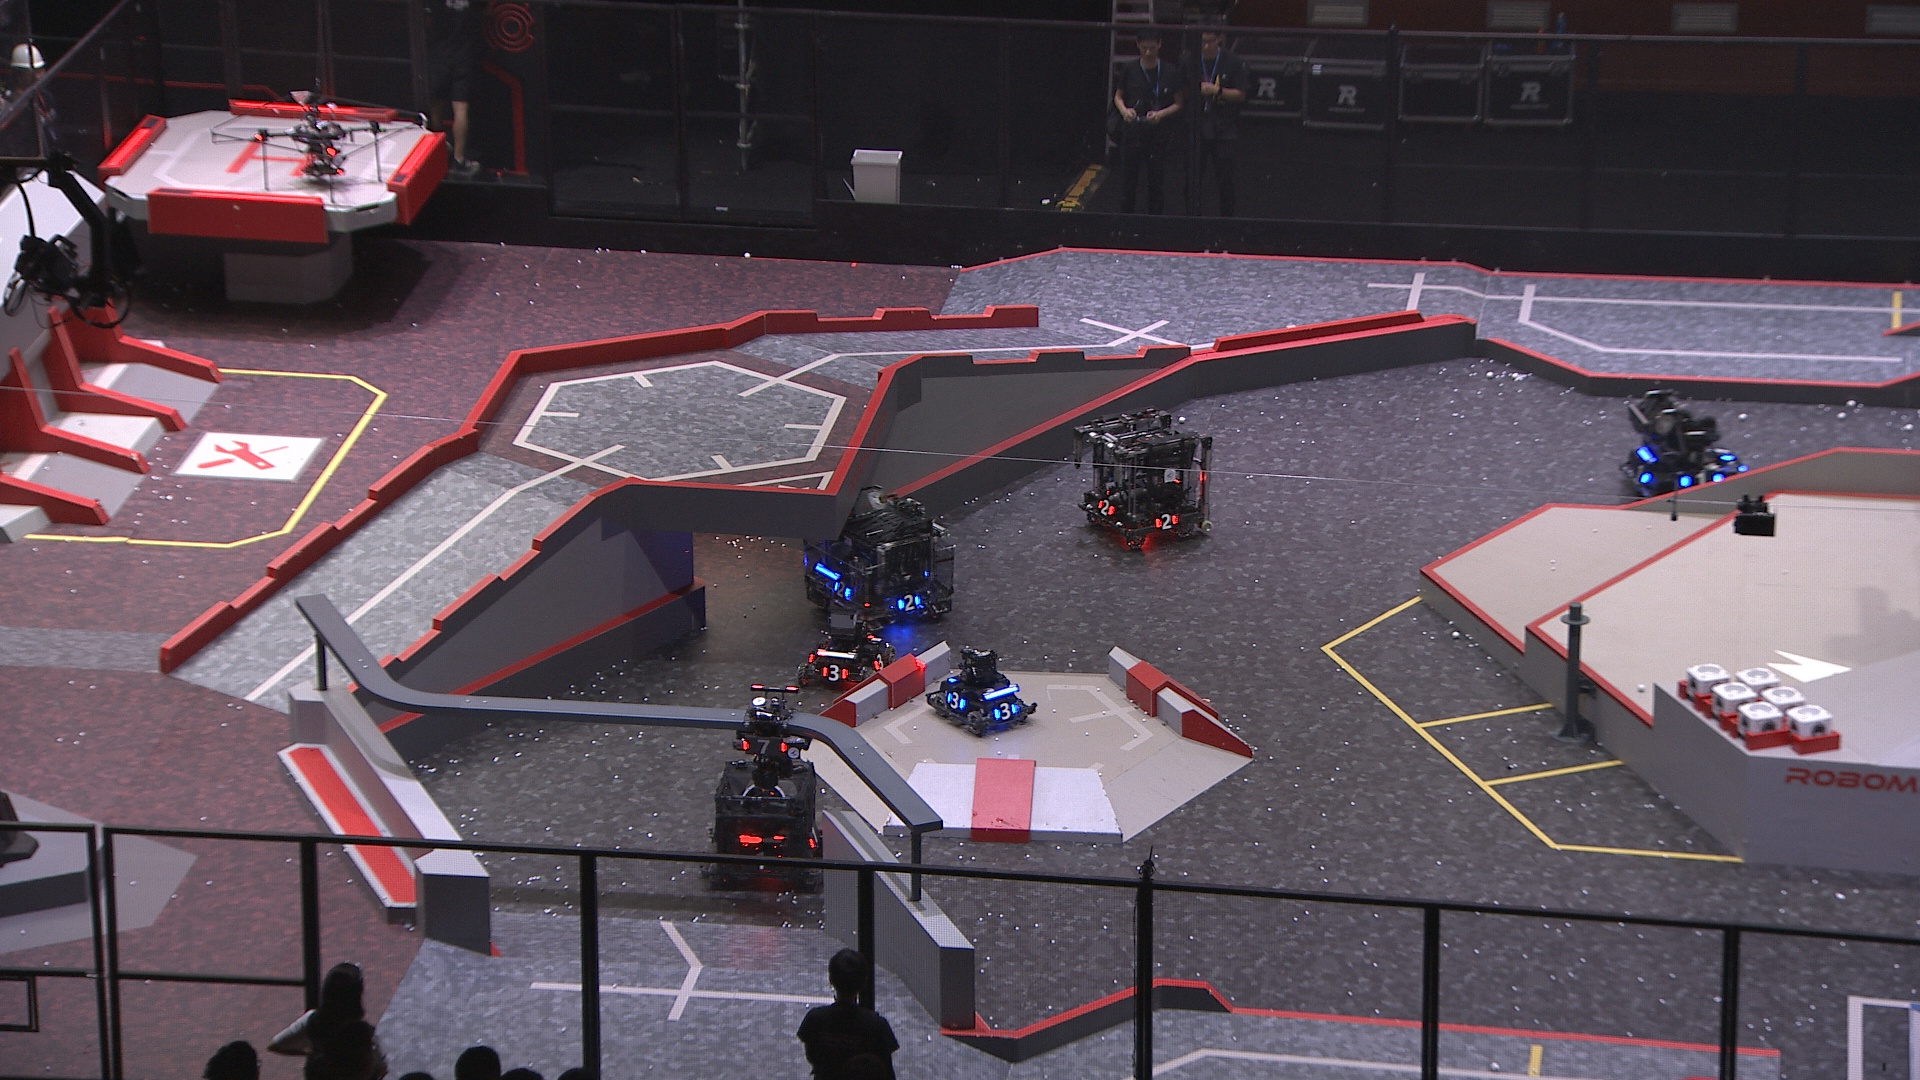armor: (735, 735, 789, 756), (741, 847, 782, 872), (1676, 471, 1724, 491), (1709, 440, 1738, 467), (1629, 458, 1654, 485), (891, 591, 922, 613), (942, 688, 965, 712), (1153, 510, 1179, 531), (831, 578, 852, 603), (822, 665, 849, 683), (992, 703, 1017, 721), (1096, 496, 1116, 518), (806, 823, 823, 847), (869, 654, 887, 673)
car: (1069, 404, 1222, 556), (802, 484, 964, 622), (705, 756, 828, 894), (1617, 381, 1749, 504), (923, 641, 1046, 738), (795, 611, 897, 694)
watcher: (728, 683, 814, 789)
